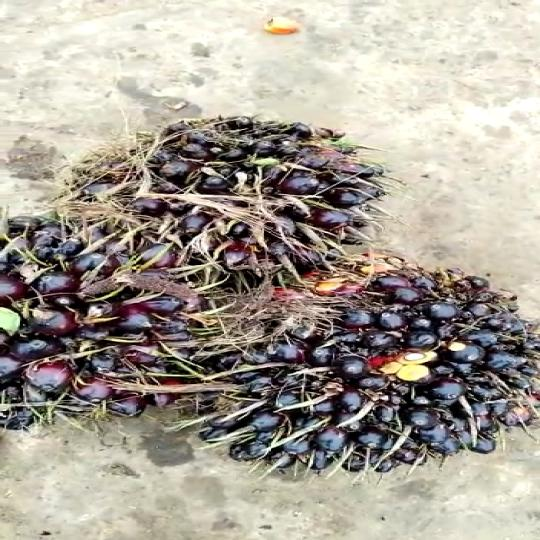mentah: (215, 269, 535, 475), (63, 103, 402, 282), (1, 213, 168, 448)
